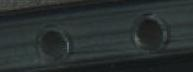joints: (130, 10, 173, 53), (32, 23, 72, 64)
